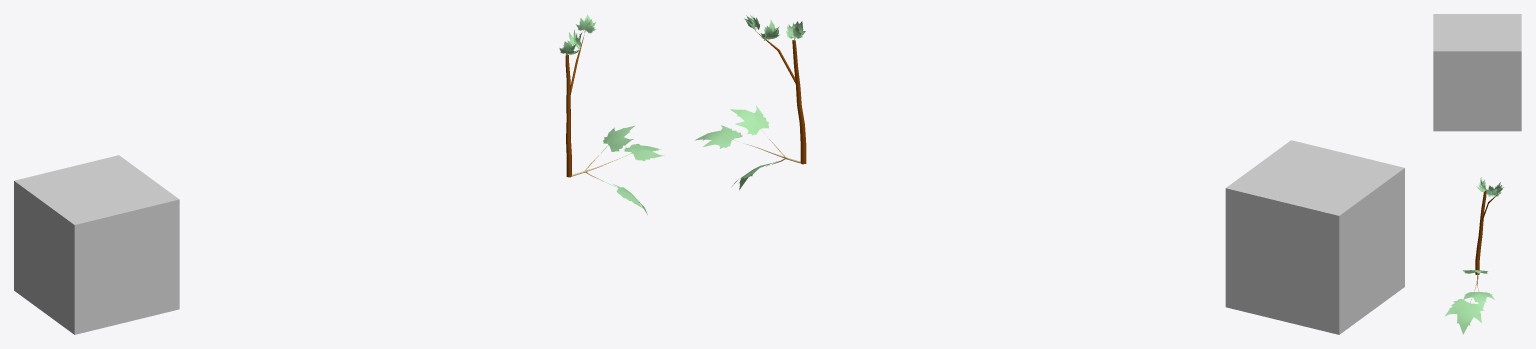
Rendered from FinalTree3.fbx.
3 views of the same model, side by side, from view 1: azimuth 30°, elevation 25°; view 2: azimuth 150°, elevation 25°; view 3: azimuth 270°, elevation 25° (orthographic). The views are drawn at different scales.
Visible parts, largest first — view 1: Cube, Árbol, palmate.003; view 2: Cube, Árbol, palmate.003, palmate.001; view 3: Cube, palmate.002, Árbol, palmate.001, palmate.003.
Boxes of the visible parts, box(x1,y1,x2,y2) form: Cube: box(14, 155, 179, 334); Árbol: box(565, 35, 584, 177); palmate.003: box(601, 125, 634, 152); Cube: box(1225, 140, 1404, 334); Árbol: box(756, 31, 806, 164); palmate.003: box(730, 105, 769, 138); palmate.001: box(695, 125, 745, 148); Cube: box(1433, 14, 1521, 131); palmate.002: box(1444, 297, 1484, 334); Árbol: box(1475, 190, 1497, 274); palmate.001: box(1463, 289, 1494, 308); palmate.003: box(1463, 270, 1487, 274).
Size of the model in its own units: 1185 by 346 by 200.
